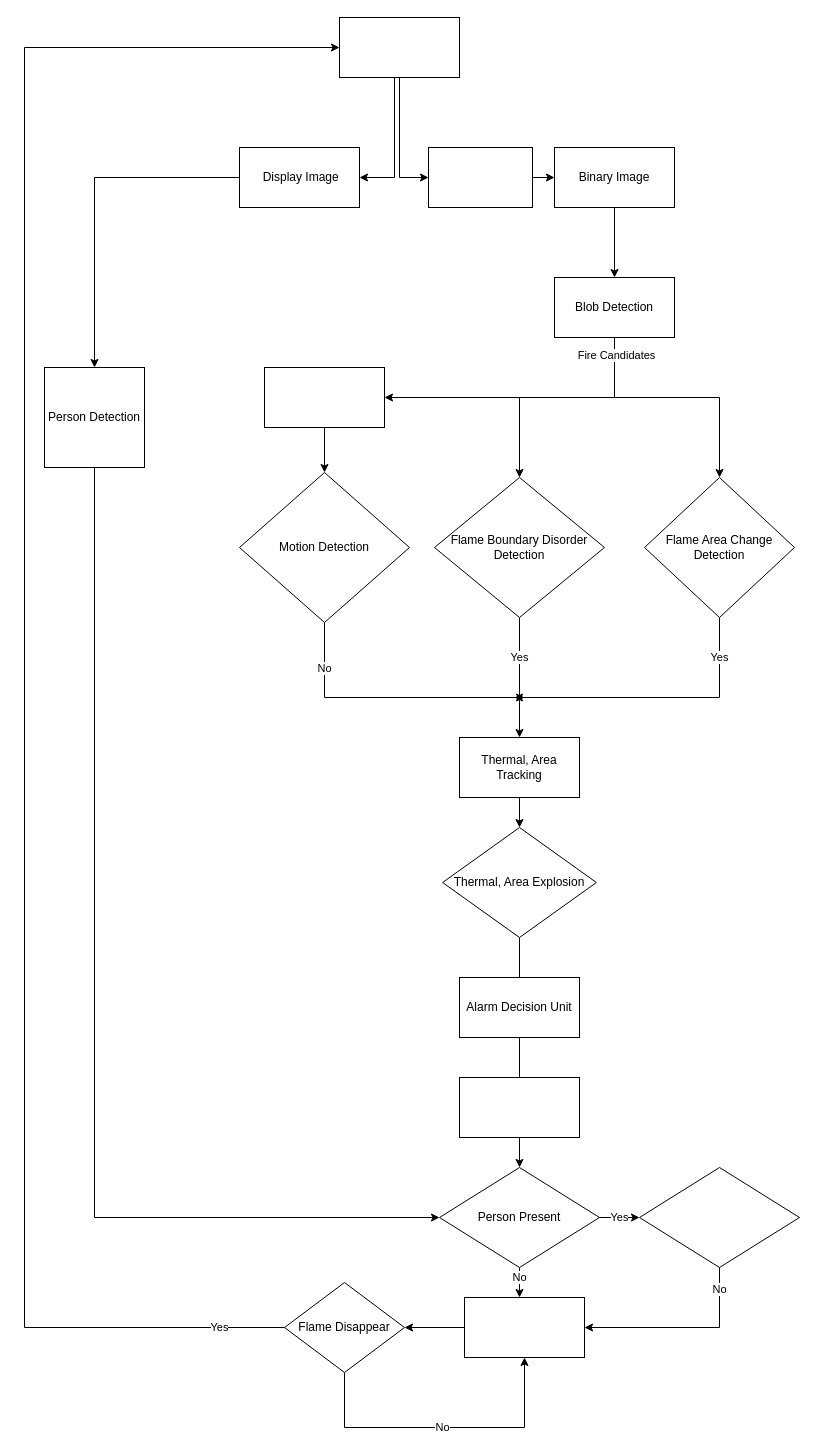
Some shapes in this 817 by 1453 pixel diagram are drawn without their labels. The shapes that lost their labels are listed below. From the top down, each one's centre as x and y in pixels, then its label:
At point 399,47: "Image".
At point 480,177: "Thermal Image".
At point 324,397: "Object Tracking".
At point 519,1107: "Alarm".
At point 719,1217: "Turn Off Alarm After 30s".
At point 524,1327: "Send Coordinate Fire Suppression".
